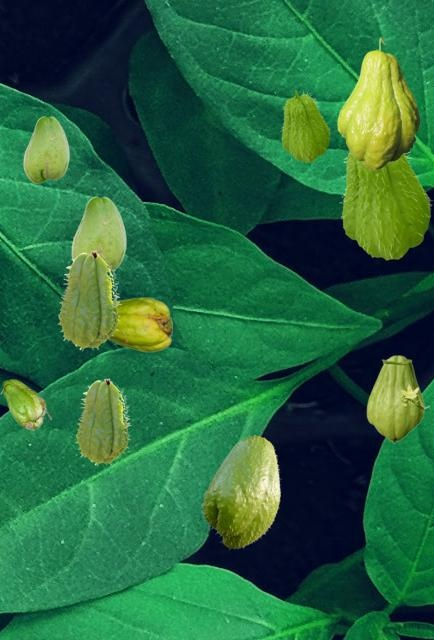sayote: (337, 37, 419, 169), (339, 151, 432, 259), (200, 435, 280, 549), (57, 250, 120, 350), (366, 355, 429, 442), (75, 378, 130, 465), (71, 196, 125, 269), (280, 89, 330, 161), (109, 297, 171, 351), (23, 116, 68, 182), (0, 379, 50, 429)
